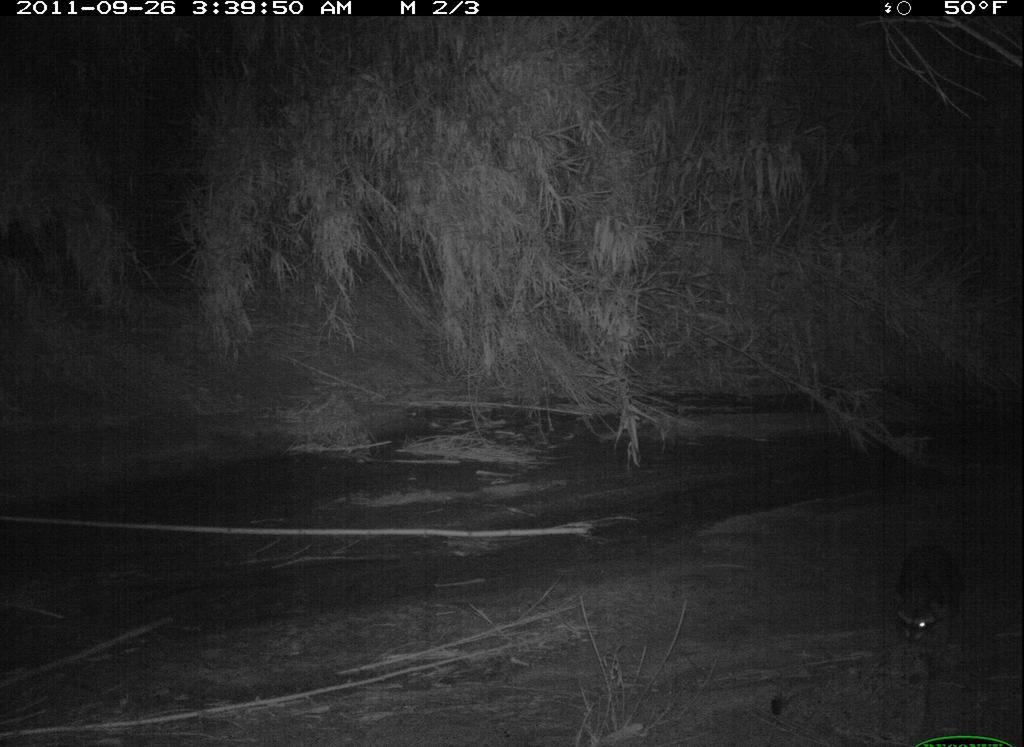raccoon: (877, 507, 996, 687)
